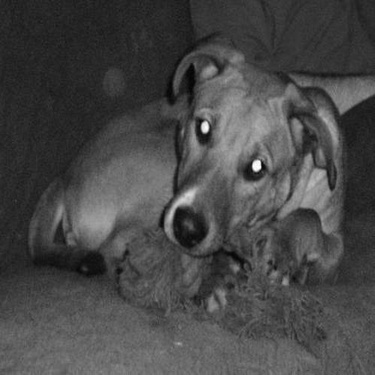dog: (25, 25, 356, 322)
